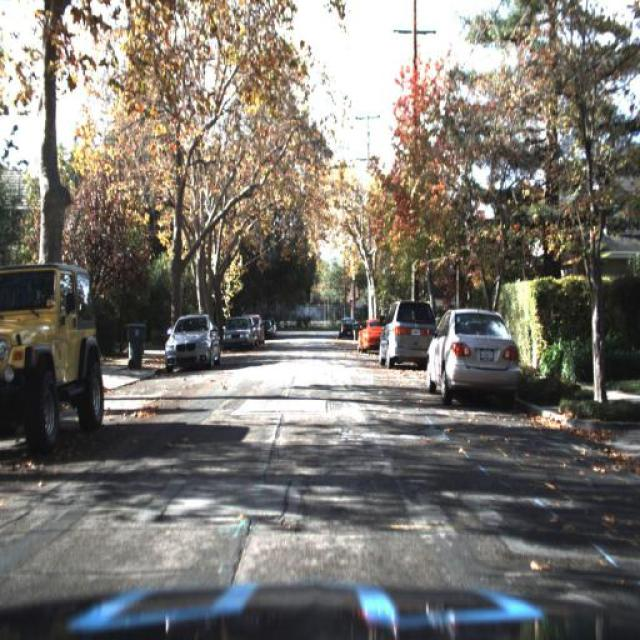car: (0, 263, 106, 456), (418, 301, 522, 401), (424, 310, 520, 400), (372, 295, 442, 365), (378, 291, 428, 368), (164, 312, 221, 372), (220, 314, 254, 350), (352, 314, 380, 351), (254, 310, 264, 356)
